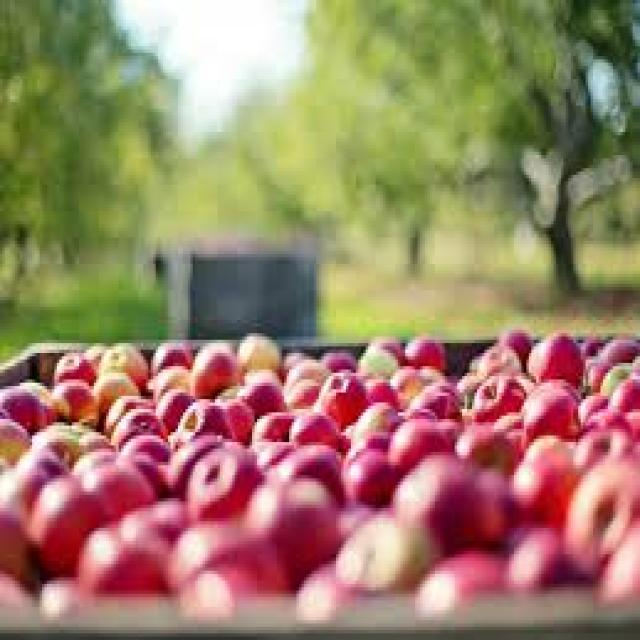Organik: (0, 329, 640, 640)
